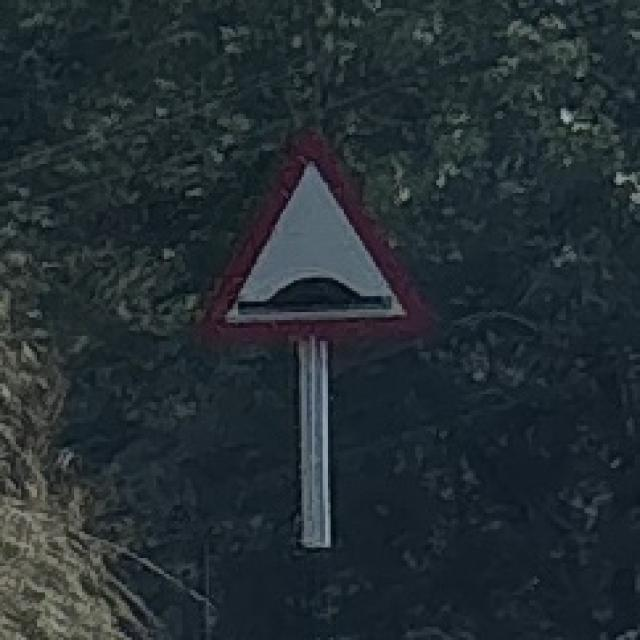HUMP_OR_ROUGH_ROAD: (205, 128, 441, 344)
